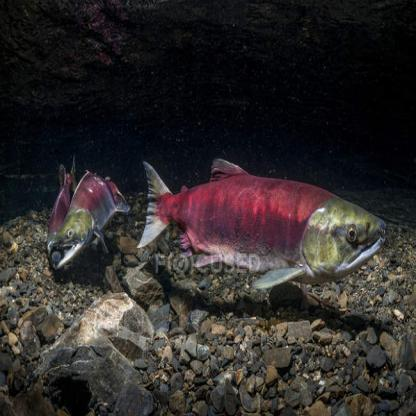fish: (136, 156, 388, 288), (48, 166, 126, 270)
